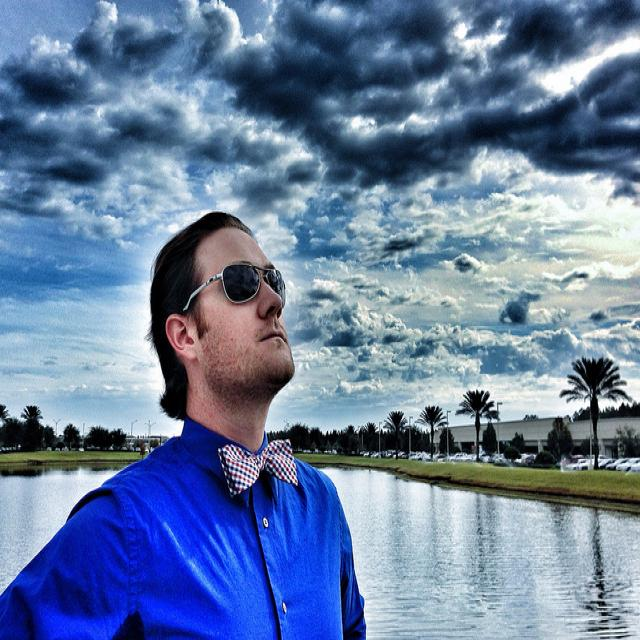Vehicle: (43, 442, 615, 472), (520, 451, 558, 469), (615, 456, 637, 471), (564, 459, 588, 470), (604, 458, 625, 470), (575, 459, 594, 471), (625, 458, 640, 472), (494, 453, 511, 464), (512, 453, 527, 464), (448, 452, 467, 460), (465, 452, 477, 462), (597, 453, 609, 462), (482, 455, 494, 462), (424, 453, 432, 460)
